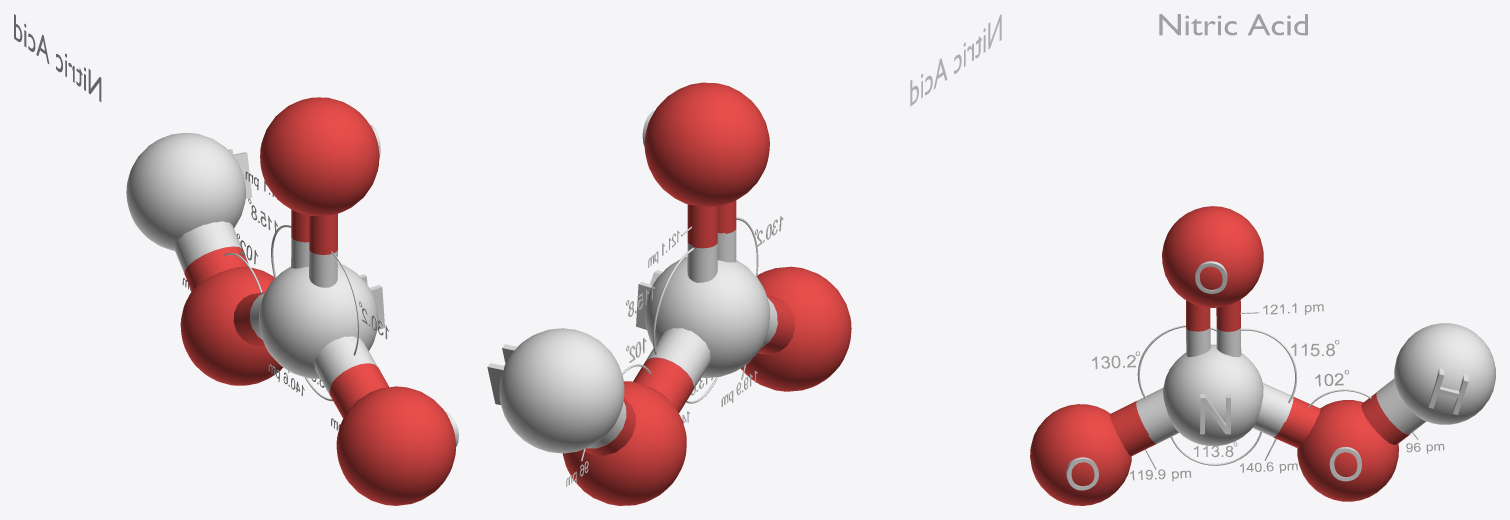
File: nitric acidglb.glb
3 views of the same model, side by side, from view 1: azimuth 30°, elevation 25°; view 2: azimuth 150°, elevation 25°; view 3: azimuth 270°, elevation 25° (orthographic). The views are drawn at different scales.
Parts seen in each view (by area): view 1: NitricAcid, Text.003; view 2: NitricAcid, Text.003; view 3: NitricAcid, Text.003.
Boxes of the visible parts, x1,y1,x2,y2 form: NitricAcid: (126, 97, 458, 505); Text.003: (14, 14, 101, 101); NitricAcid: (487, 82, 851, 505); Text.003: (910, 14, 1001, 106); NitricAcid: (1030, 206, 1495, 505); Text.003: (1159, 14, 1307, 35).
Bounding box in the file's own units: 8.96 × 12.42 × 13.67.
